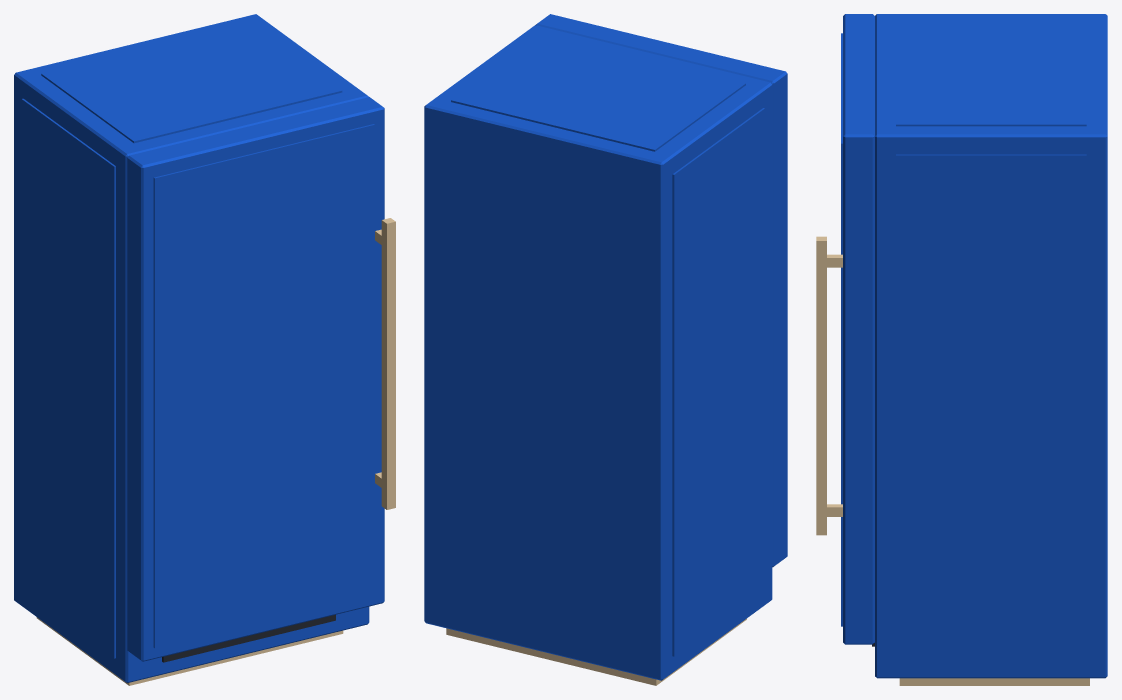
The model's file is geladeira-moderna.glb.
The picture shows the model from 3 angles, left to right: view 1: azimuth 30°, elevation 25°; view 2: azimuth 150°, elevation 25°; view 3: azimuth 270°, elevation 25°; orthographic projection. The views are drawn at different scales.
Visible parts, largest first — view 1: porta, geladeira; view 2: geladeira, porta; view 3: geladeira, porta.
Boxes of the visible parts, x1,y1,x2,y2 form: porta: (127, 97, 395, 661); geladeira: (14, 14, 369, 685); geladeira: (424, 25, 772, 685); porta: (536, 14, 787, 567); geladeira: (872, 14, 1107, 685); porta: (816, 14, 874, 644).
Size of the model in its own units: 0.832 by 1.75 by 0.826.
